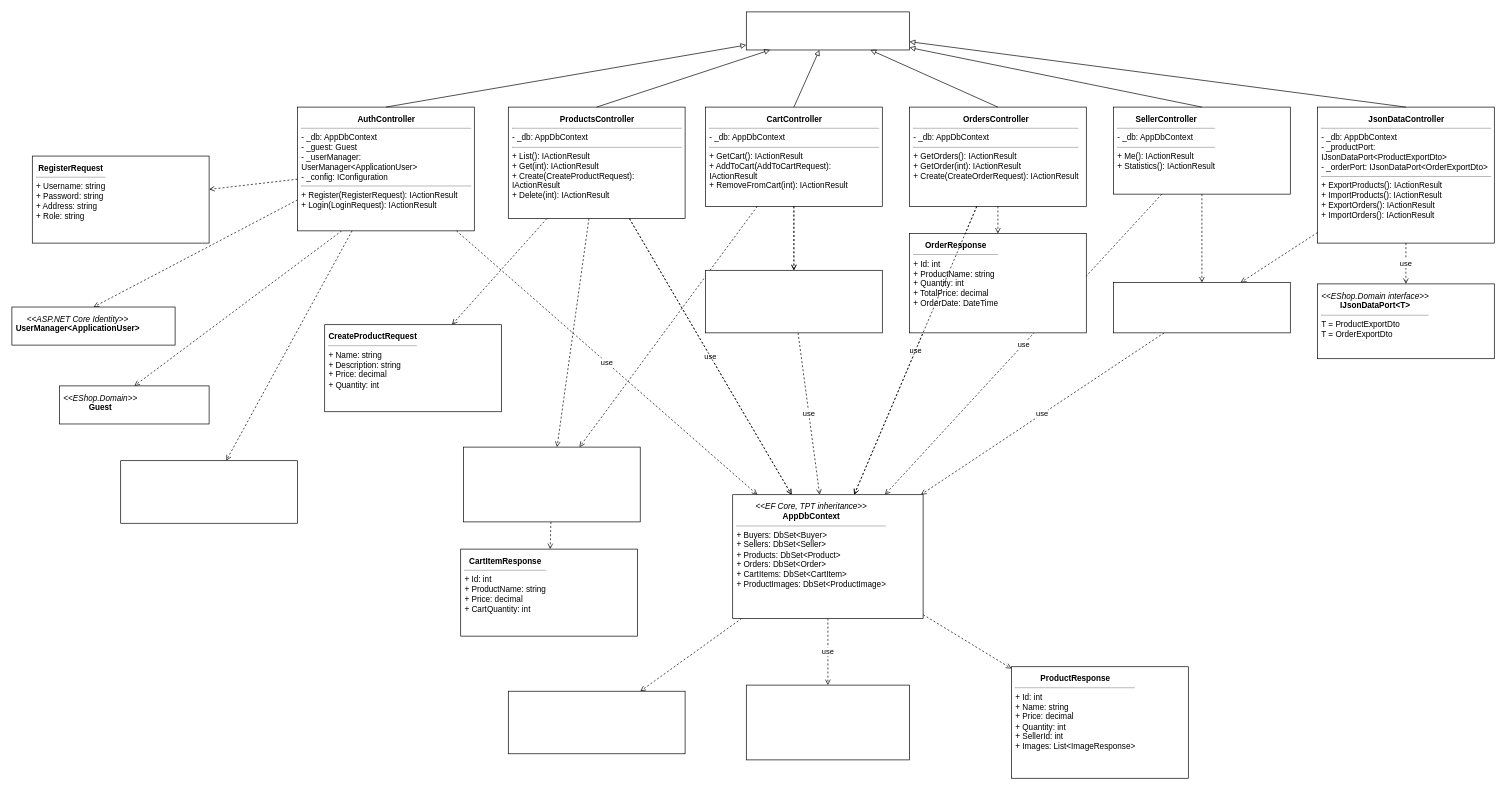
Image size: 1506x790. Some labels were removed from this diagram. Here are the shapes that lost their labels. From the top down, the centre of each, then its label:
At [828,30]: "<<ASP.NET Core Mvc, abstract>> ControllerBase".
At [793,301]: "AddToCartRequest + ProductId: int + Quantity: int".
At [1201,307]: "SellerStatsResponse + Statistics: string".
At [209,491]: "LoginRequest + Username: string + Password: string".
At [551,484]: "ImageResponse + Id: int + ImagePath: string + AltText: string".
At [596,722]: "CreateOrderRequest + ProductId: int + Quantity: int".
At [828,722]: "<<ASP.NET Core Identity>> ApplicationUser + Id: string + UserName: string".
